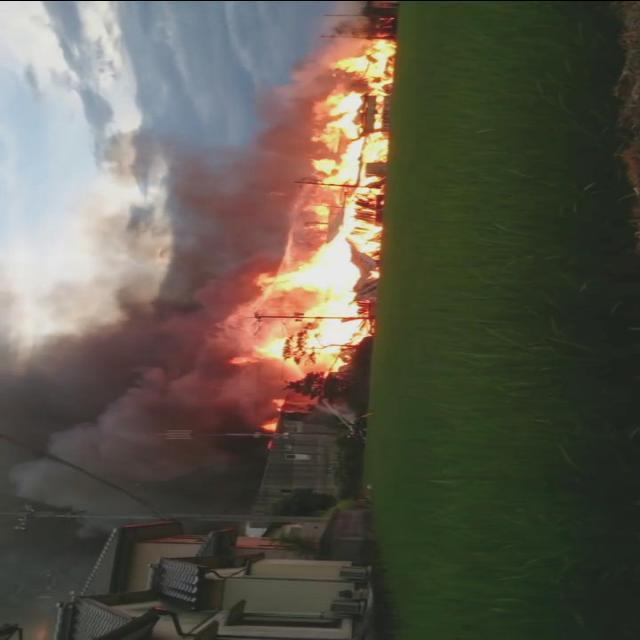Fire: (232, 38, 394, 374), (260, 416, 282, 432), (270, 399, 286, 410)
